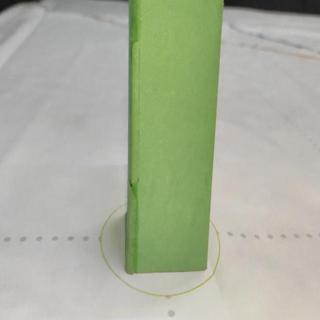greenbox: (130, 1, 222, 271)
